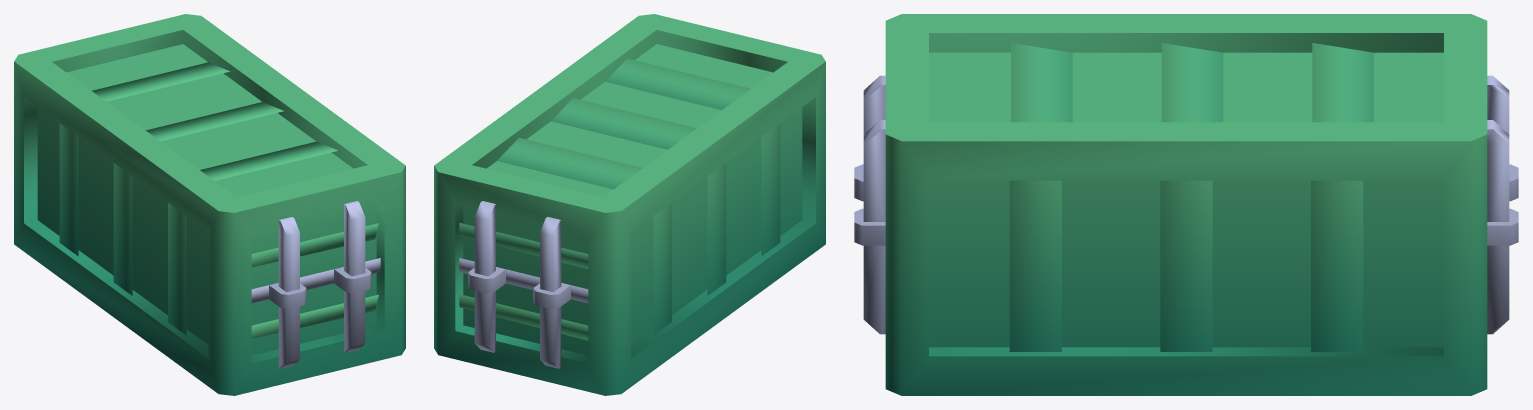
Rendered from shipping-container-c.lod.glb.
The picture shows the model from 3 angles, left to right: view 1: azimuth 30°, elevation 25°; view 2: azimuth 150°, elevation 25°; view 3: azimuth 270°, elevation 25°; orthographic projection. The views are drawn at different scales.
Visible parts, largest first — view 1: shipping-container-c; view 2: shipping-container-c; view 3: shipping-container-c.
Part boxes in pixels (bbox=[...]): shipping-container-c: bbox=[14, 14, 405, 395]; shipping-container-c: bbox=[434, 14, 825, 395]; shipping-container-c: bbox=[854, 14, 1518, 395].
Bounding box in the file's own units: 0.3726 × 0.3481 × 0.8226.
Materials: 1 (1 with a texture image).
